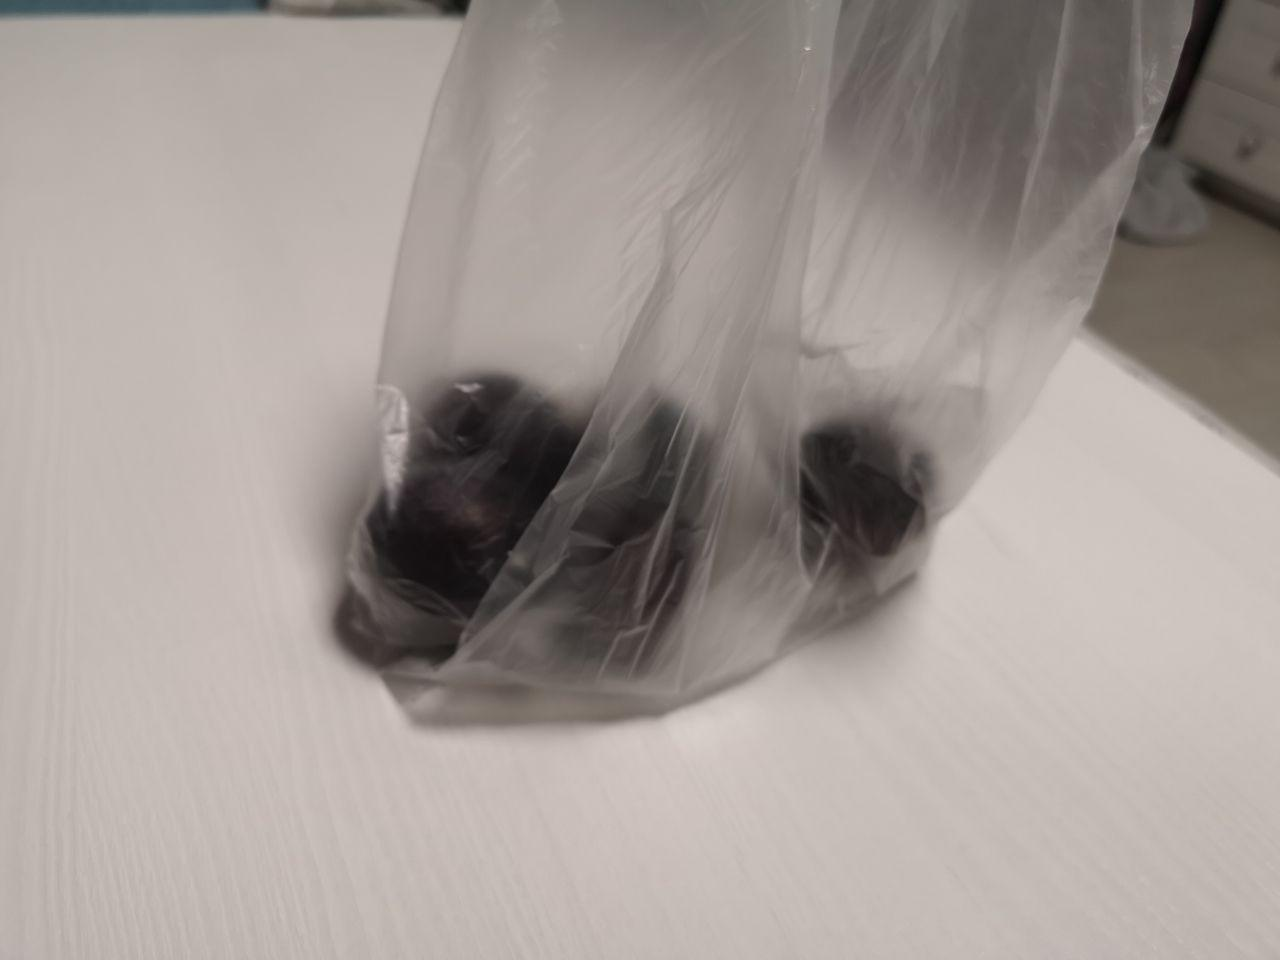plum: (319, 306, 996, 781)
